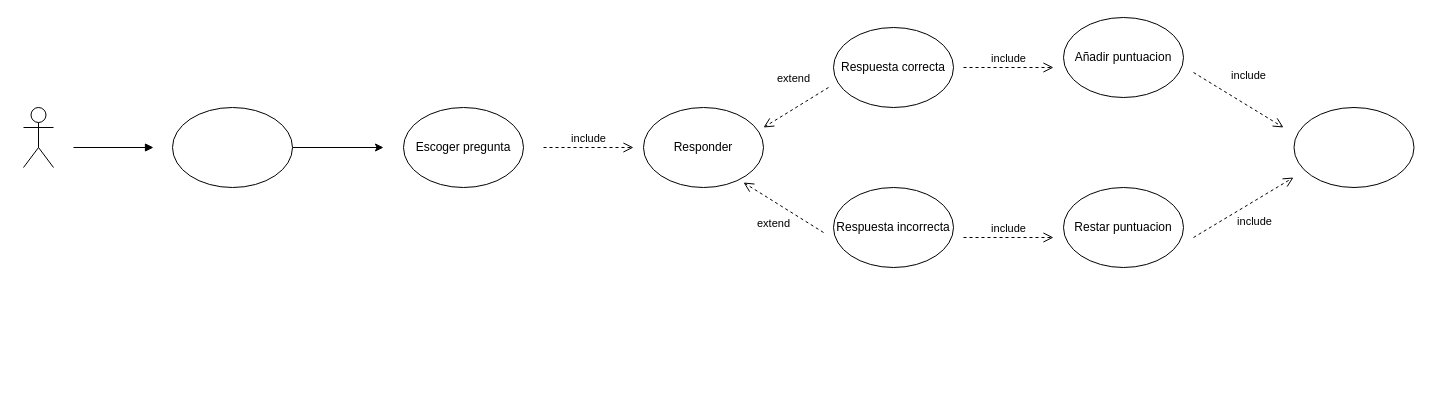
This 1432x396 diagram has some shape labels left out. The centre of each missing label's shape, as x and y in pixels:
Escoger Nombre: point (232, 147)
Jugador: point (38, 137)
Siguiente turno: point (1353, 147)
